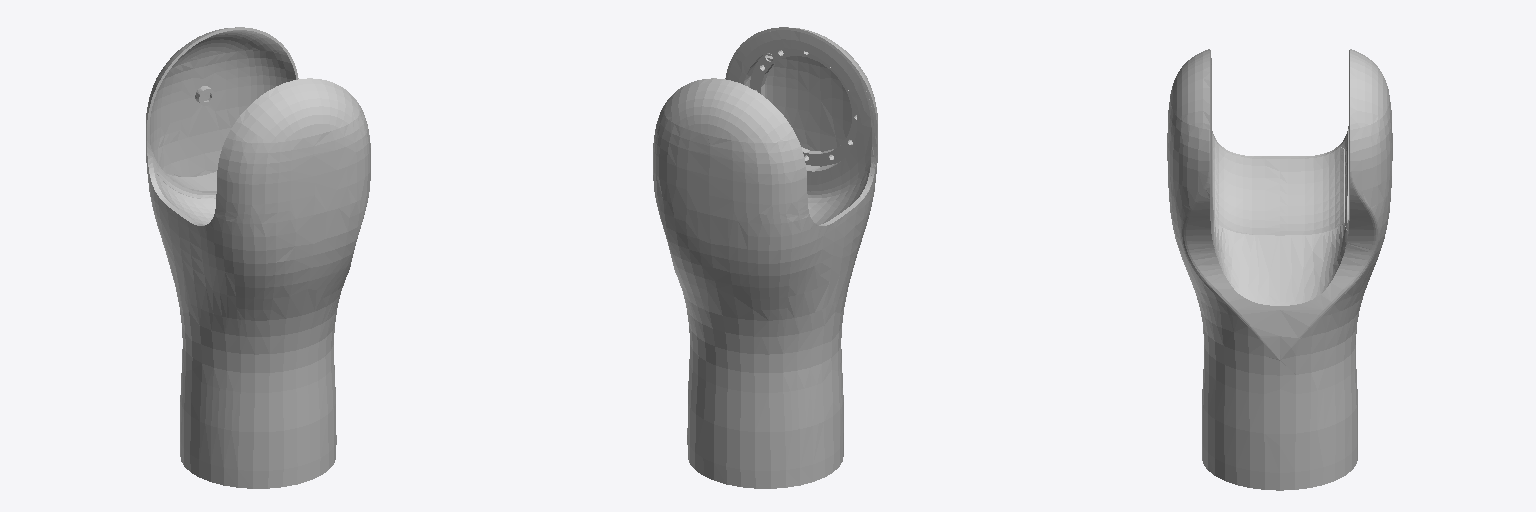
File: right_arm_link2.obj
3 renders of one model, left to right at view 1: azimuth 30°, elevation 25°; view 2: azimuth 150°, elevation 25°; view 3: azimuth 270°, elevation 25°, orthographic.
Visible parts, largest first — view 1: Right_Arm_Link2; view 2: Right_Arm_Link2; view 3: Right_Arm_Link2.
Part boxes in pixels (left/top/right/bottom): Right_Arm_Link2: left=146, top=27, right=370, bottom=488; Right_Arm_Link2: left=653, top=27, right=877, bottom=488; Right_Arm_Link2: left=1167, top=49, right=1392, bottom=490.
Size of the model in its own units: 0.0957 by 0.234 by 0.1192.